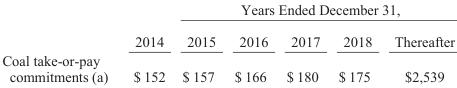table: (1, 1, 454, 84)
table column: (1, 1, 120, 84), (382, 1, 454, 84), (328, 1, 382, 84), (120, 1, 173, 84), (224, 1, 276, 84), (276, 1, 328, 84), (173, 1, 224, 84)
table column header: (1, 1, 454, 50)
table row: (1, 50, 454, 84), (1, 25, 454, 50), (1, 1, 454, 25)
table spanning cell: (173, 1, 454, 25), (120, 1, 173, 50)
